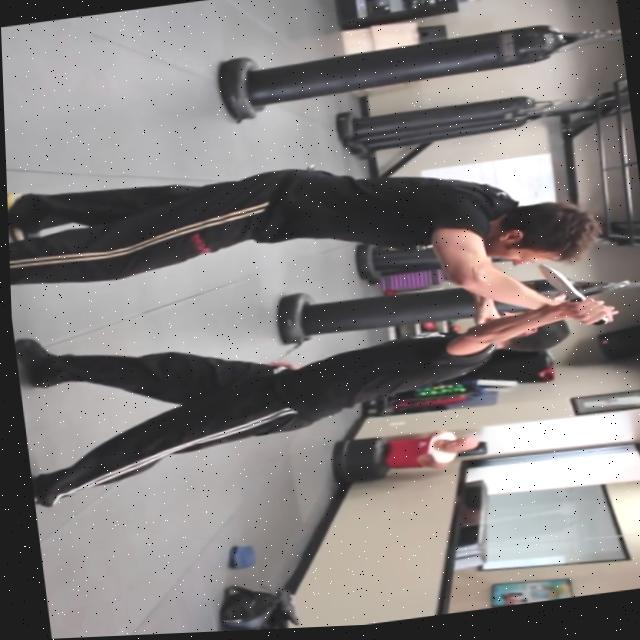knife: (532, 264, 582, 311)
